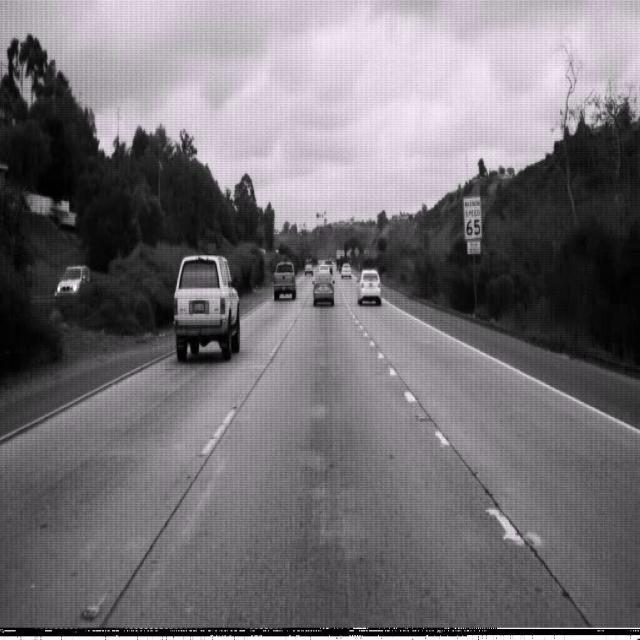speedLimit65: (462, 192, 483, 242)
